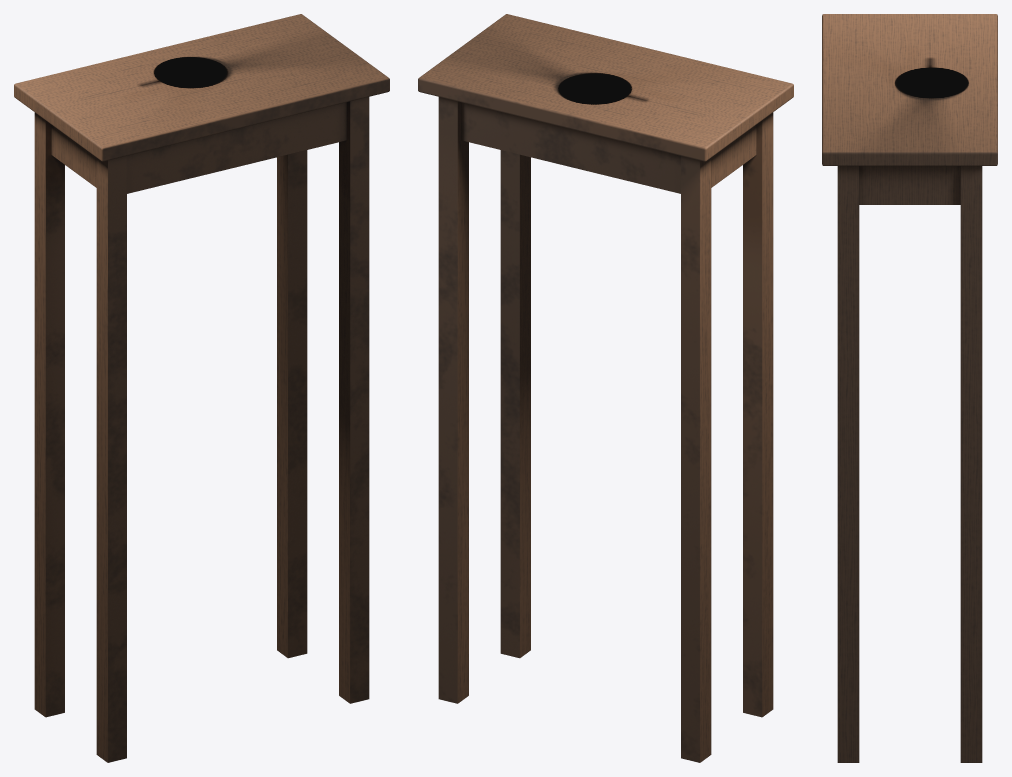
File: 413_melt.glb
The picture shows the model from 3 angles, left to right: view 1: azimuth 30°, elevation 25°; view 2: azimuth 150°, elevation 25°; view 3: azimuth 270°, elevation 25°; orthographic projection.
Parts seen in each view (by area): view 1: Table; view 2: Table; view 3: Table.
Part boxes in pixels (x1,y1,x2,y2): Table: [14, 14, 389, 762]; Table: [418, 14, 793, 762]; Table: [822, 14, 997, 762].
Size of what is drawn, in the model's own units: 1.5 by 3.1 by 0.8.
1 material, 1 textured.
